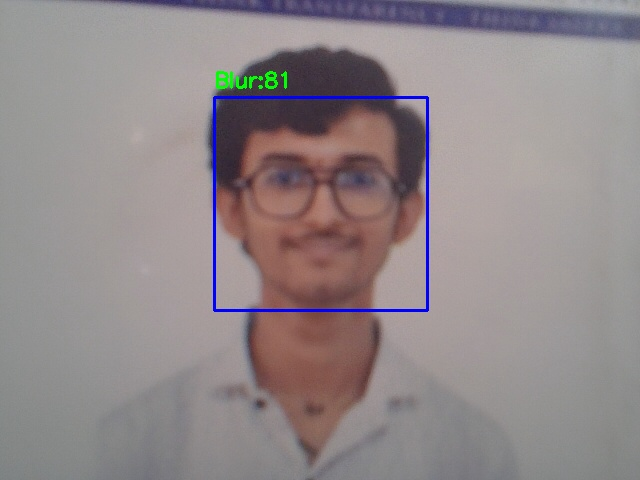fake: (214, 97, 427, 310)
